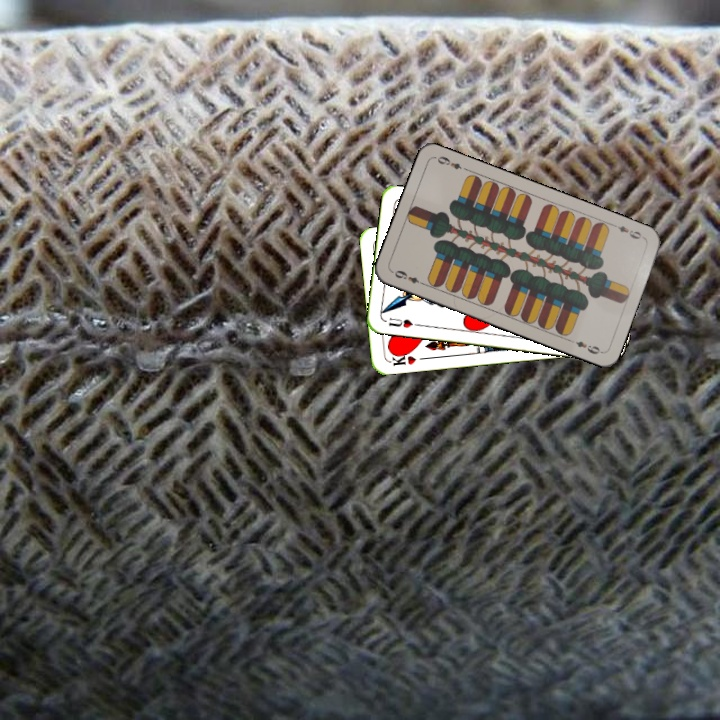E9: (388, 266, 427, 288), (608, 220, 647, 242)
HK: (386, 348, 419, 368)
HU: (385, 314, 422, 330)
